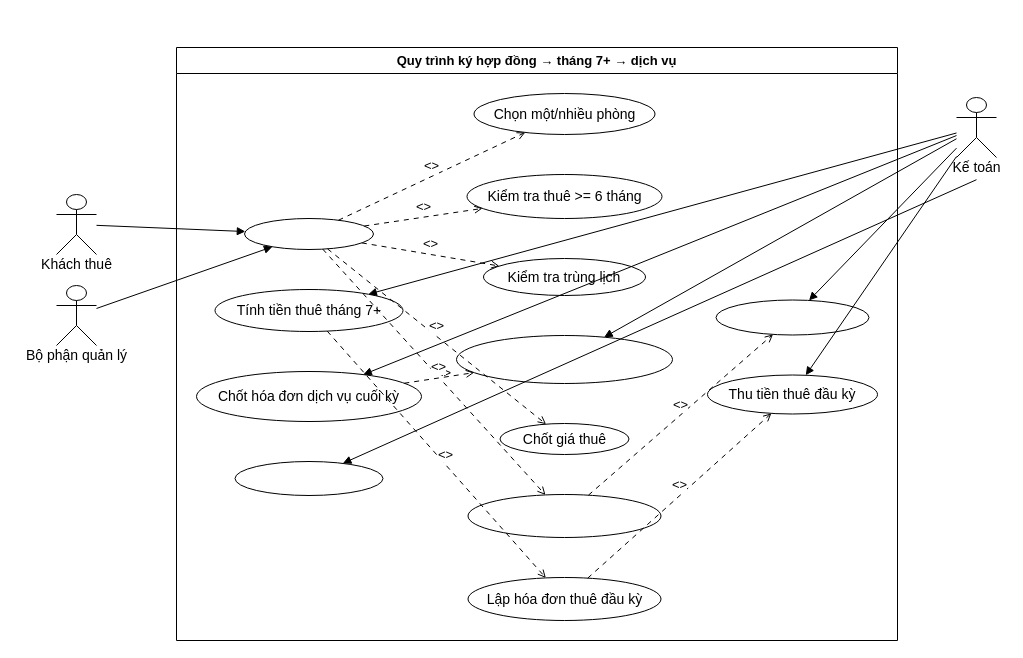
Image size: 1023x658. Some labels were removed from this diagram. Each missing label, with the centre of its shape:
"Ghi nhận điện/nước/internet" goes at (x=564, y=359).
"Lập hóa đơn 6 tháng đầu" goes at (x=564, y=516).
"Lập hợp đồng" goes at (x=309, y=234).
"Thu tiền dịch vụ" goes at (x=308, y=478).
"Thu trước 6 tháng" goes at (x=792, y=317).
